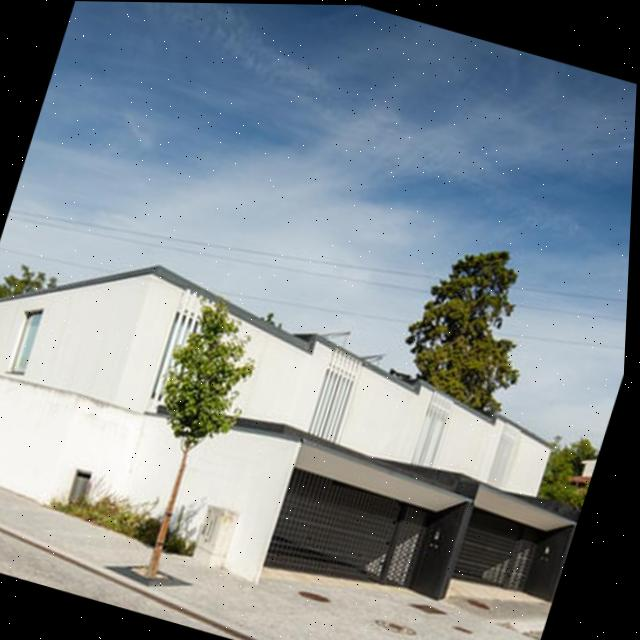building: (0, 217, 624, 640)
